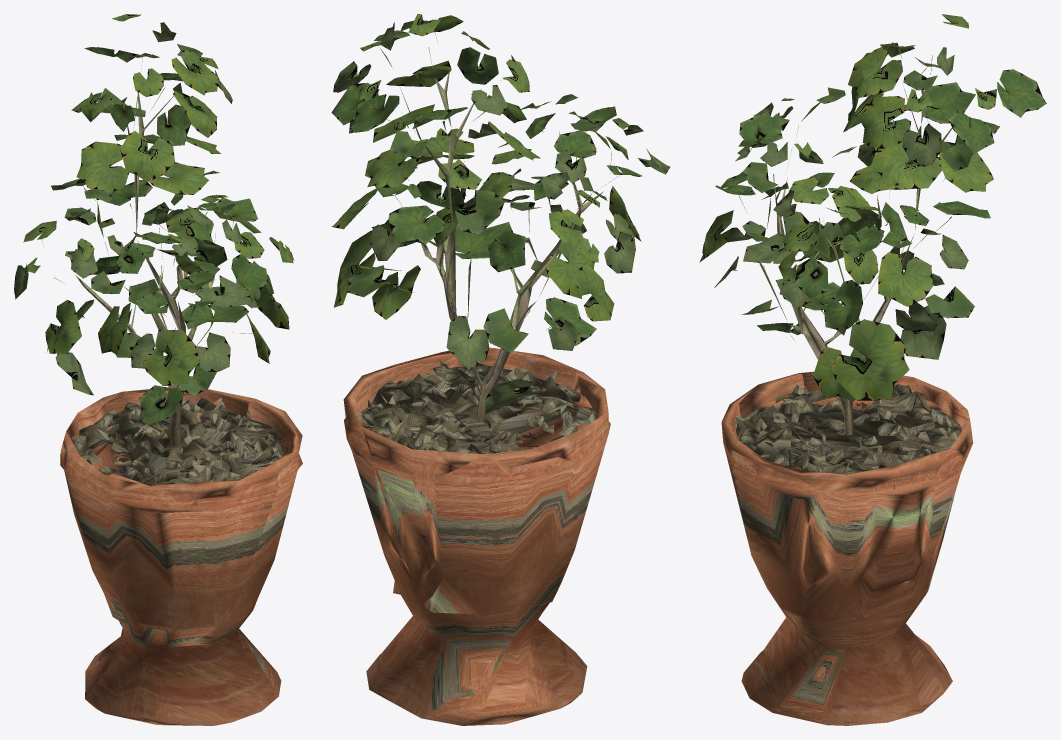
The model's file is potted_plant_01.glb.
The picture shows the model from 3 angles, left to right: view 1: azimuth 30°, elevation 25°; view 2: azimuth 150°, elevation 25°; view 3: azimuth 270°, elevation 25°; orthographic projection. The views are drawn at different scales.
Parts seen in each view (by area): view 1: potted_plant_01_pot, potted_plant_01_leaves, potted_plant_01_pebbles, potted_plant_01_stem; view 2: potted_plant_01_pot, potted_plant_01_leaves, potted_plant_01_pebbles, potted_plant_01_stem; view 3: potted_plant_01_pot, potted_plant_01_leaves, potted_plant_01_pebbles, potted_plant_01_stem.
Part boxes in pixels (box(x1,y1,x2,y2)): potted_plant_01_pot: box(60, 387, 302, 725); potted_plant_01_leaves: box(14, 14, 294, 424); potted_plant_01_pebbles: box(70, 397, 287, 485); potted_plant_01_stem: box(54, 54, 215, 446); potted_plant_01_pot: box(343, 347, 610, 725); potted_plant_01_leaves: box(331, 14, 670, 414); potted_plant_01_pebbles: box(358, 361, 596, 454); potted_plant_01_stem: box(399, 47, 611, 421); potted_plant_01_pot: box(721, 371, 973, 725); potted_plant_01_leaves: box(699, 14, 1046, 401); potted_plant_01_pebbles: box(735, 384, 961, 473); potted_plant_01_stem: box(759, 55, 963, 435).
Size of the model in its own units: 0.5846 by 1.34 by 0.6336.
2 materials, 2 textured.
